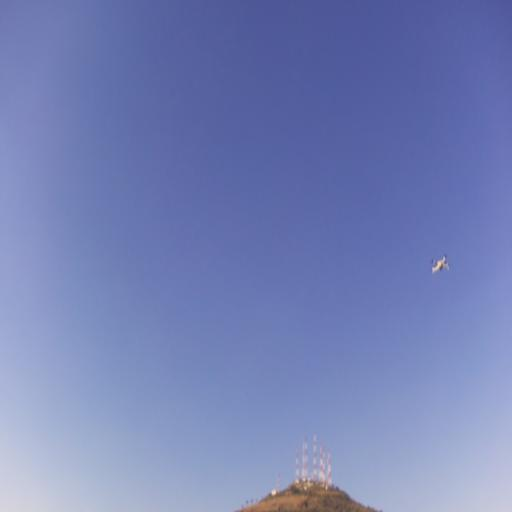drones: (430, 253, 450, 277)
